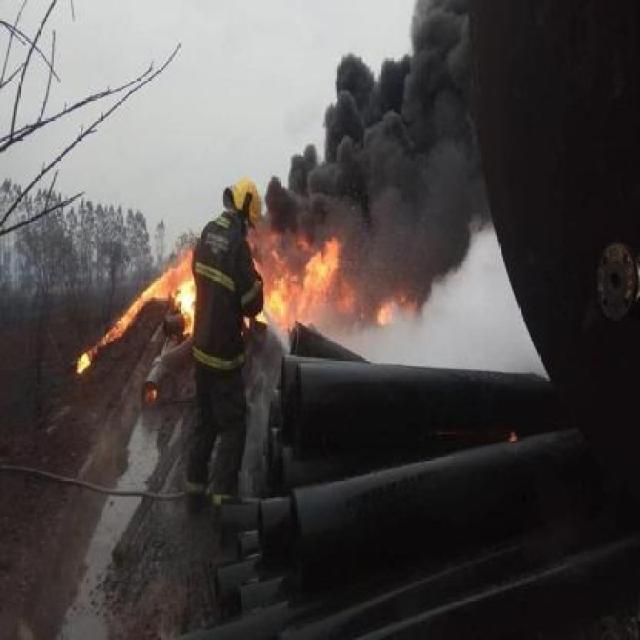Fire: (74, 246, 196, 401), (252, 231, 402, 331)
Smoke: (262, 10, 470, 234), (405, 236, 467, 325)
